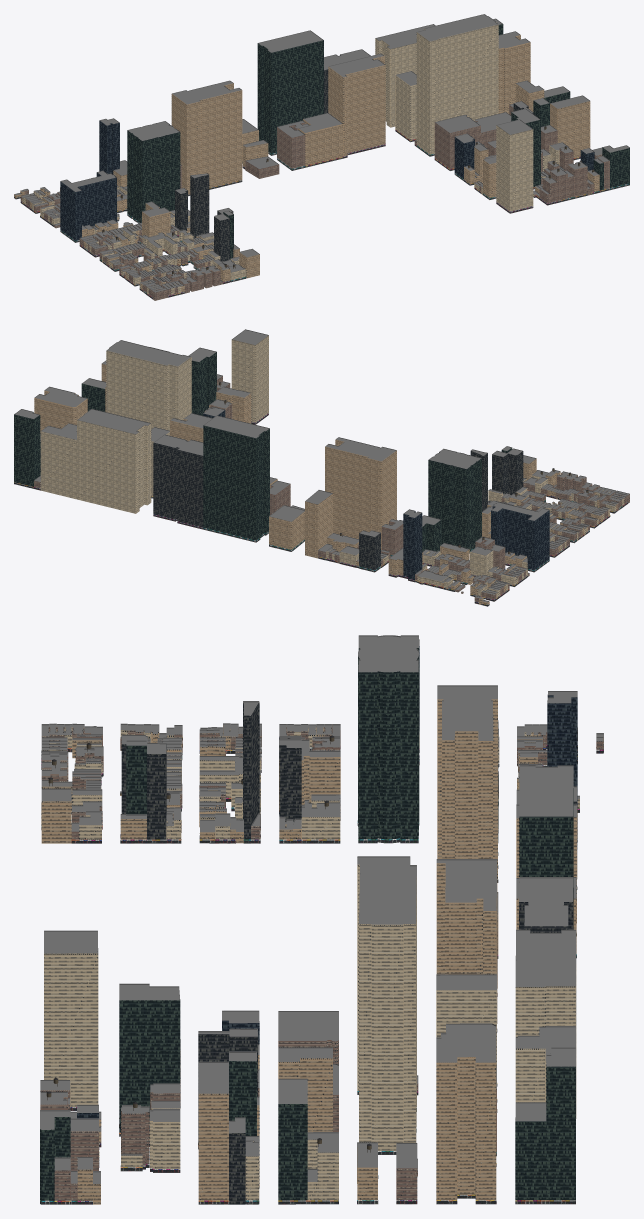
Rendered from mid_n.glb.
The picture shows the model from 3 angles, top to bottom: view 1: azimuth 30°, elevation 25°; view 2: azimuth 150°, elevation 25°; view 3: azimuth 270°, elevation 25°; orthographic projection. The views are drawn at different scales.
Visible parts, largest first — view 1: BLD_TS_RcaBuilding_1076262, BLD_TS_1024812, BLD_TS_AxaCenter_1023157, BLD_TS_TimeLifeBuilding_1022709, BLD_TS_WorldwidePlaza_1076203, BLD_TS_1071414, BLD_TS_1077841, BLD_TS_SperryRandBuilding_1034510, BLD_TS_InternationalBuilding_1083860, BLD_TS_1034484, BLD_TS_AmericanManagementAssociatio_1022708, BLD_TS_1077287 (+21 smaller); view 2: BLD_TS_AxaCenter_1023157, BLD_TS_SperryRandBuilding_1034510, BLD_TS_RcaBuilding_1076262, BLD_TS_1024812, BLD_TS_WorldwidePlaza_1076203, BLD_TS_EquitableLifeAssuranceSociet_1023158, BLD_TS_1077841, BLD_TS_1071414, BLD_TS_TimeWarnerBuilding_1034512, BLD_TS_PahlaviFoundationBuilding_1034517, BLD_TS_InternationalBuilding_1083860, BLD_TS_NovotelHotel_1024817 (+16 smaller); view 3: BLD_TS_RcaBuilding_1076262, BLD_TS_WorldwidePlaza_1076203, BLD_TS_InternationalBuilding_1083860, BLD_TS_1024812, BLD_TS_1071414, BLD_TS_TimeLifeBuilding_1022709, BLD_TS_1034346, BLD_TS_SperryRandBuilding_1034510, BLD_TS_AxaCenter_1023157, BLD_TS_PahlaviFoundationBuilding_1034517, BLD_TS_1034484, BLD_TS_1034506 (+28 smaller).
Boxes of the visible parts, left/top/right/bottom form: BLD_TS_RcaBuilding_1076262: left=416, top=14, right=498, bottom=156; BLD_TS_1024812: left=171, top=80, right=242, bottom=196; BLD_TS_AxaCenter_1023157: left=257, top=30, right=323, bottom=155; BLD_TS_TimeLifeBuilding_1022709: left=328, top=53, right=385, bottom=158; BLD_TS_WorldwidePlaza_1076203: left=127, top=121, right=180, bottom=223; BLD_TS_1071414: left=496, top=119, right=533, bottom=213; BLD_TS_1077841: left=60, top=170, right=116, bottom=242; BLD_TS_SperryRandBuilding_1034510: left=375, top=24, right=435, bottom=127; BLD_TS_InternationalBuilding_1083860: left=498, top=31, right=530, bottom=113; BLD_TS_1034484: left=550, top=95, right=590, bottom=160; BLD_TS_AmericanManagementAssociatio_1022708: left=298, top=113, right=343, bottom=167; BLD_TS_1077287: left=434, top=115, right=480, bottom=170; BLD_TS_AxaCenter_1023157: left=203, top=415, right=269, bottom=542; BLD_TS_SperryRandBuilding_1034510: left=77, top=409, right=151, bottom=513; BLD_TS_RcaBuilding_1076262: left=106, top=340, right=191, bottom=430; BLD_TS_1024812: left=325, top=437, right=396, bottom=550; BLD_TS_WorldwidePlaza_1076203: left=428, top=448, right=481, bottom=553; BLD_TS_EquitableLifeAssuranceSociet_1023158: left=153, top=434, right=203, bottom=529; BLD_TS_1077841: left=491, top=502, right=549, bottom=572; BLD_TS_1071414: left=231, top=329, right=268, bottom=424; BLD_TS_TimeWarnerBuilding_1034512: left=40, top=423, right=76, bottom=499; BLD_TS_PahlaviFoundationBuilding_1034517: left=14, top=409, right=40, bottom=488; BLD_TS_InternationalBuilding_1083860: left=34, top=386, right=87, bottom=433; BLD_TS_NovotelHotel_1024817: left=305, top=490, right=333, bottom=558; BLD_TS_RcaBuilding_1076262: left=357, top=856, right=416, bottom=1154; BLD_TS_WorldwidePlaza_1076203: left=357, top=635, right=419, bottom=843; BLD_TS_InternationalBuilding_1083860: left=436, top=1023, right=496, bottom=1204; BLD_TS_1024812: left=437, top=685, right=498, bottom=882; BLD_TS_1071414: left=44, top=930, right=98, bottom=1110; BLD_TS_TimeLifeBuilding_1022709: left=436, top=859, right=497, bottom=1032; BLD_TS_1034346: left=119, top=983, right=180, bottom=1136; BLD_TS_SperryRandBuilding_1034510: left=515, top=929, right=576, bottom=1118; BLD_TS_AxaCenter_1023157: left=519, top=765, right=573, bottom=929; BLD_TS_PahlaviFoundationBuilding_1034517: left=546, top=1047, right=575, bottom=1204; BLD_TS_1034484: left=198, top=1061, right=229, bottom=1204; BLD_TS_1034506: left=278, top=1078, right=307, bottom=1204.
Bounding box in the file's own units: 1104 × 255 × 567.
Materials: 12 (10 with a texture image).
